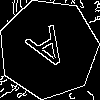A: (23, 24, 77, 81)
